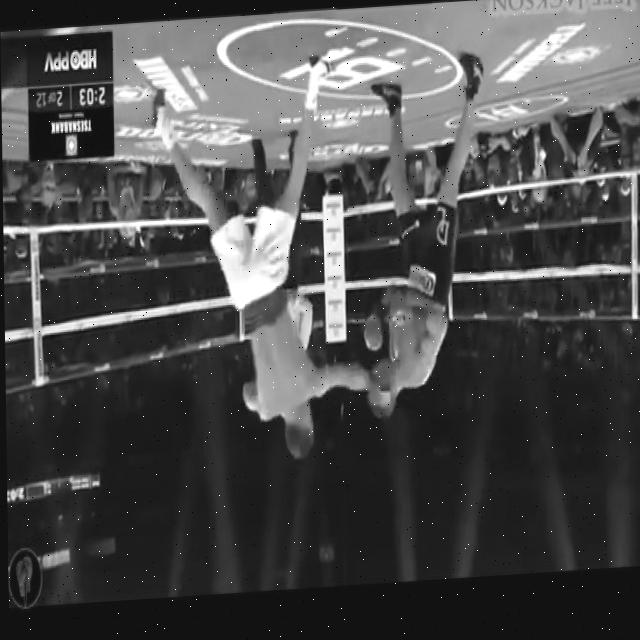Jab: (277, 307, 402, 430)
